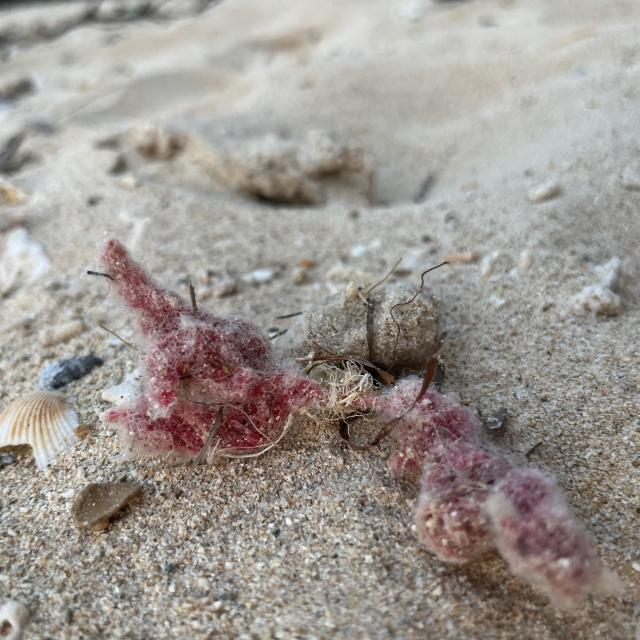shell: (0, 375, 85, 472)
trash: (99, 194, 640, 612)
